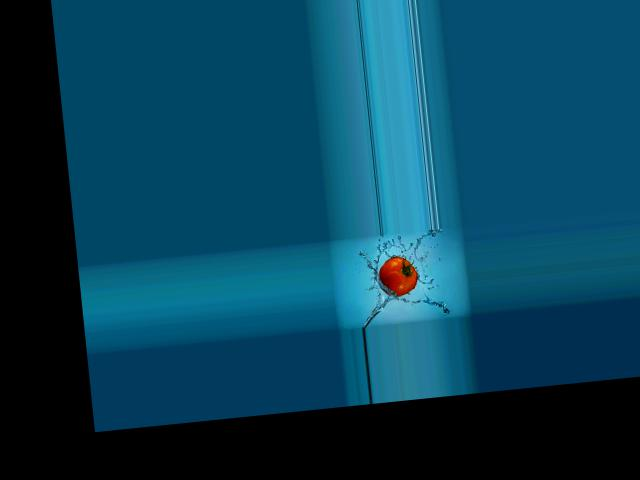tomato: (376, 254, 418, 297)
